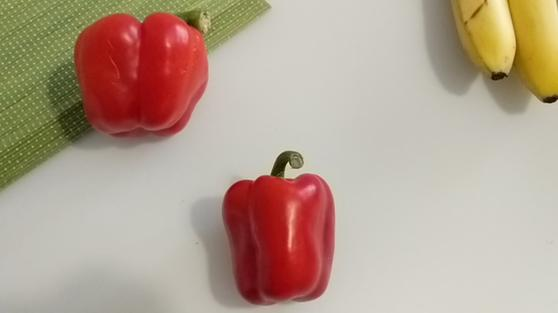pepper: (74, 6, 217, 138), (224, 149, 338, 306)
